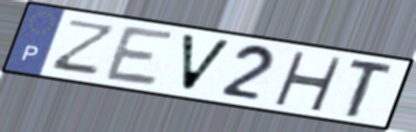2: (215, 41, 283, 108)
E: (101, 23, 178, 89)
H: (271, 49, 345, 113)
T: (342, 59, 398, 120)
V: (178, 31, 235, 95)
Z: (46, 18, 121, 77)
